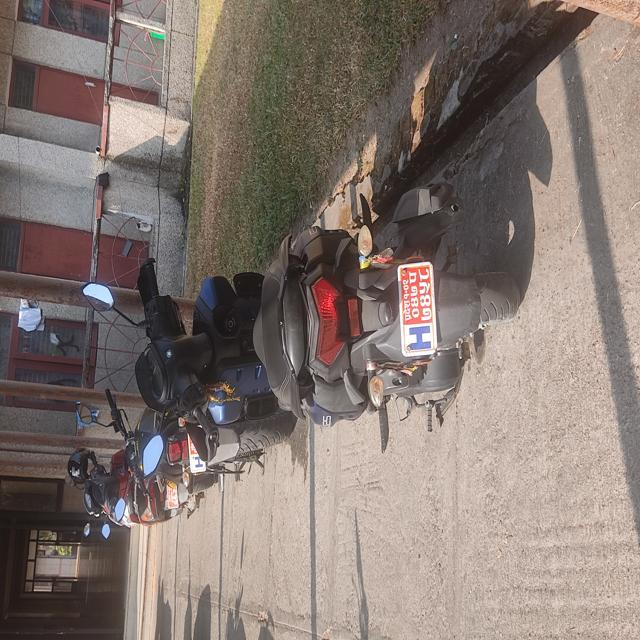license_plate: (392, 248, 447, 386)
